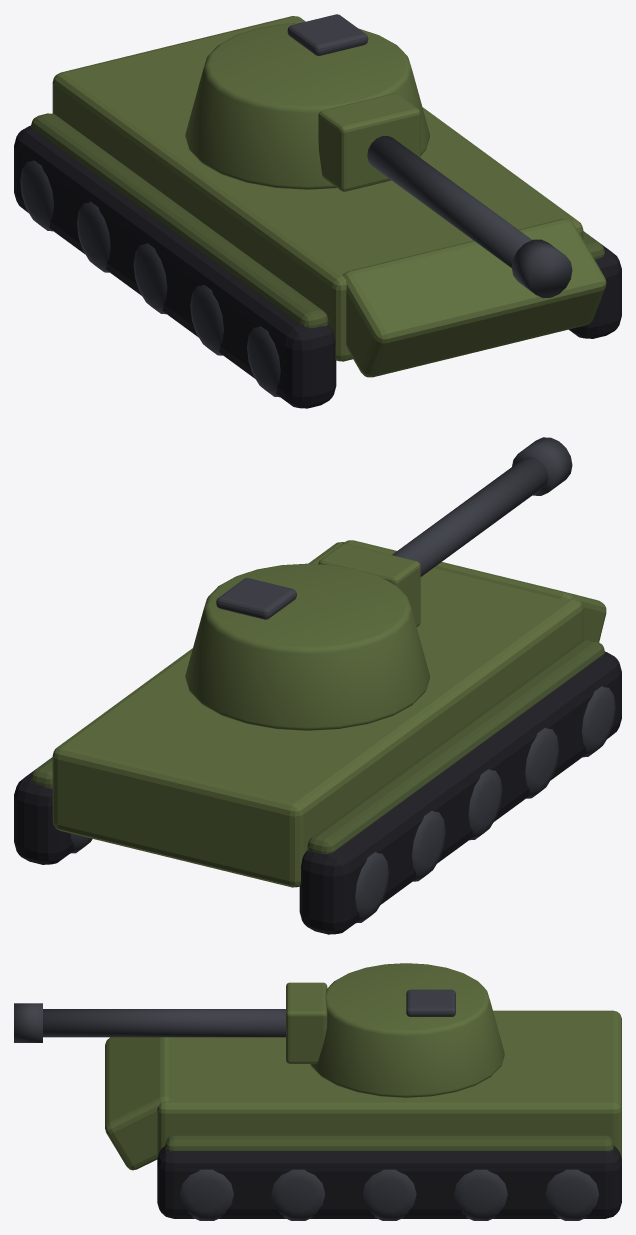
Rendered from tank.glb.
3 renders of one model, top to bottom at view 1: azimuth 30°, elevation 25°; view 2: azimuth 150°, elevation 25°; view 3: azimuth 270°, elevation 25°, orthographic. The views are drawn at different scales.
Parts seen in each view (by area): view 1: hull, turret, trackR, barrel, trackL; view 2: hull, turret, trackR, barrel, trackL; view 3: hull, trackL, turret, barrel.
Boxes of the visible parts, x1,y1,x2,y2 form: hull: (31,16,606,377); turret: (185,14,429,191); trackR: (14,125,336,408); barrel: (367,136,572,297); trackL: (569,231,621,338); hull: (31,540,606,887); turret: (185,543,429,730); trackR: (299,651,621,934); barrel: (392,437,572,576); trackL: (14,757,92,864); hull: (105,1010,621,1170); trackL: (157,1146,621,1220); turret: (286,963,504,1097); barrel: (14,1003,285,1042).
Bounding box in the file's own units: 3.82 × 2.32 × 7.32.
